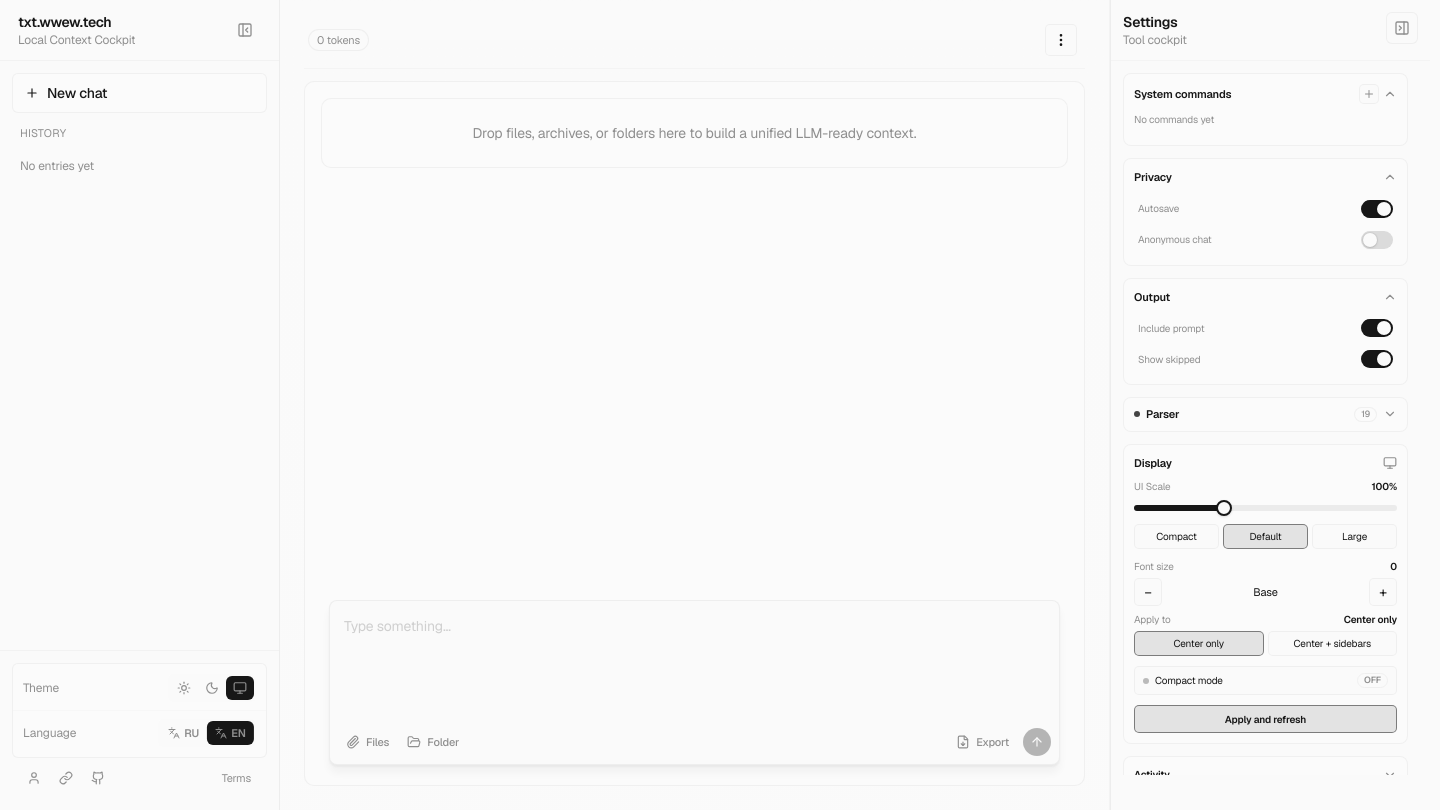
Scenario: Display section › Default preset restores scale to 100%
The image size is (1440, 810).
Click the button "Compact": (1176, 536) [1134,524,1219,549]
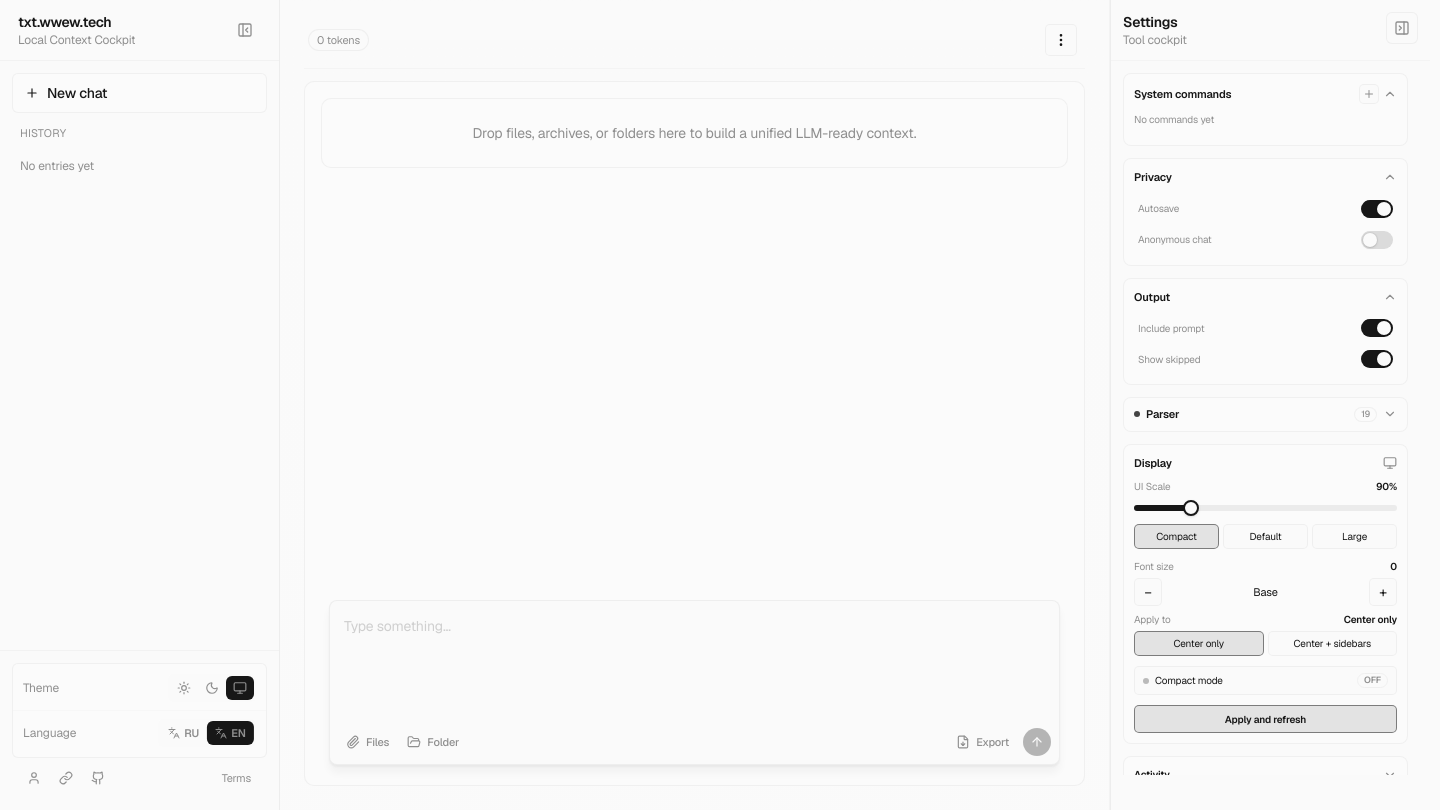
Click the button "Default": (1266, 536) [1223,524,1308,549]
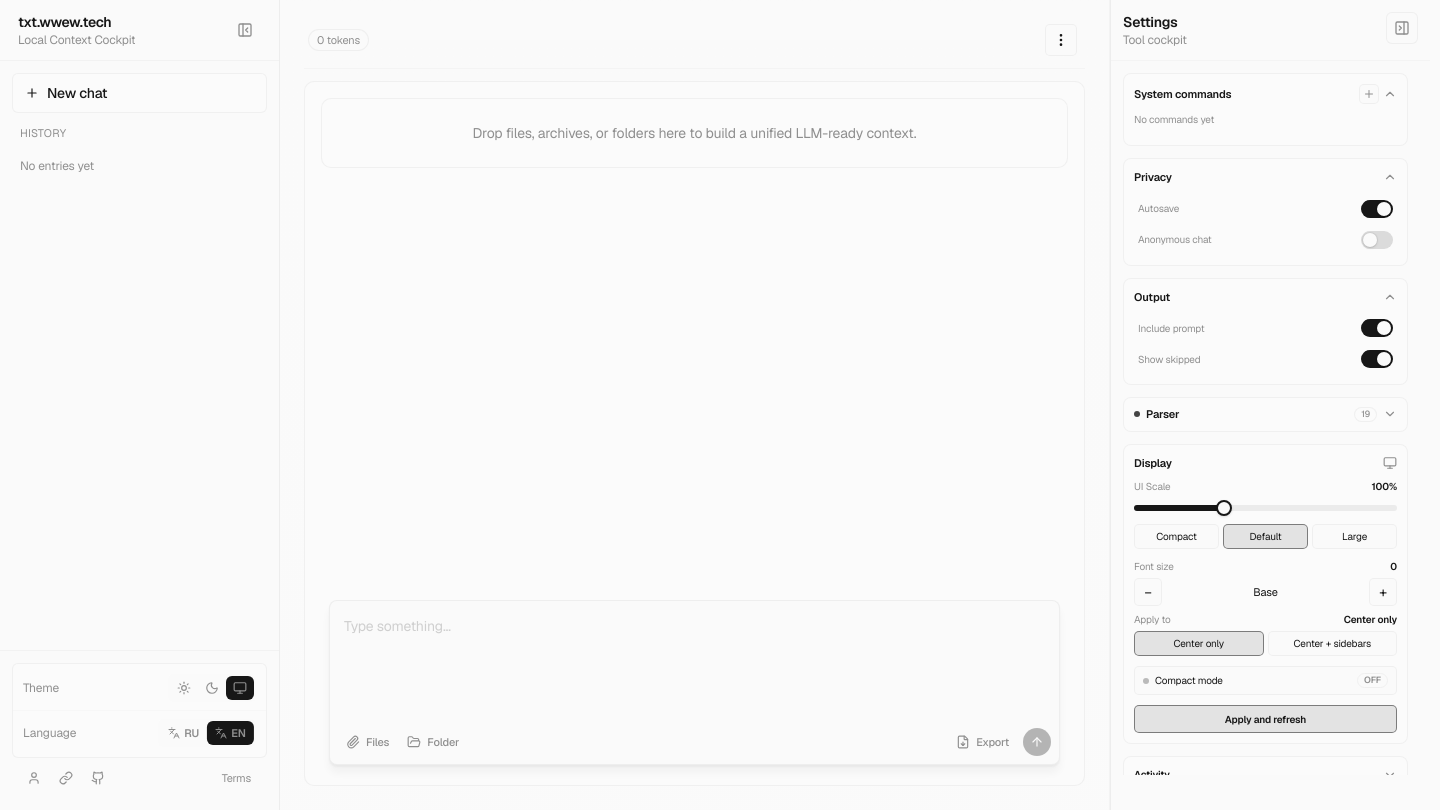
Expected: the text "100%" is shown, [1372,479,1397,494]
